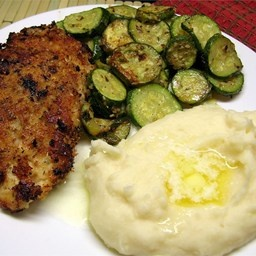background: (0, 1, 102, 102)
